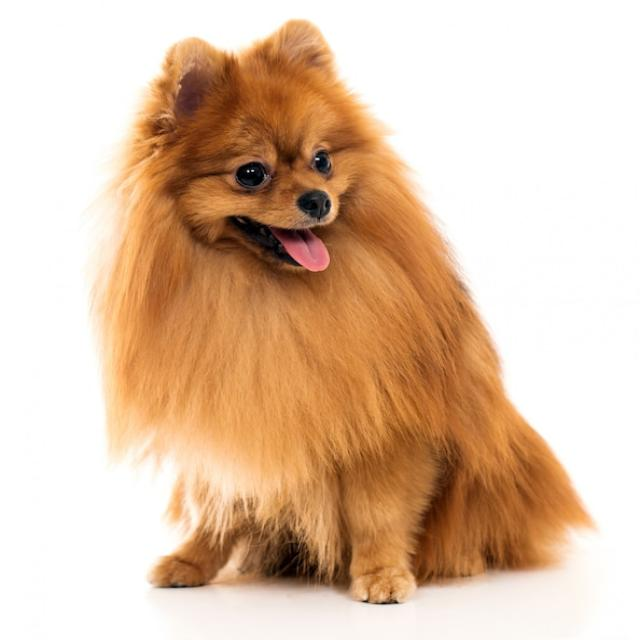Dog: (89, 21, 595, 603)
